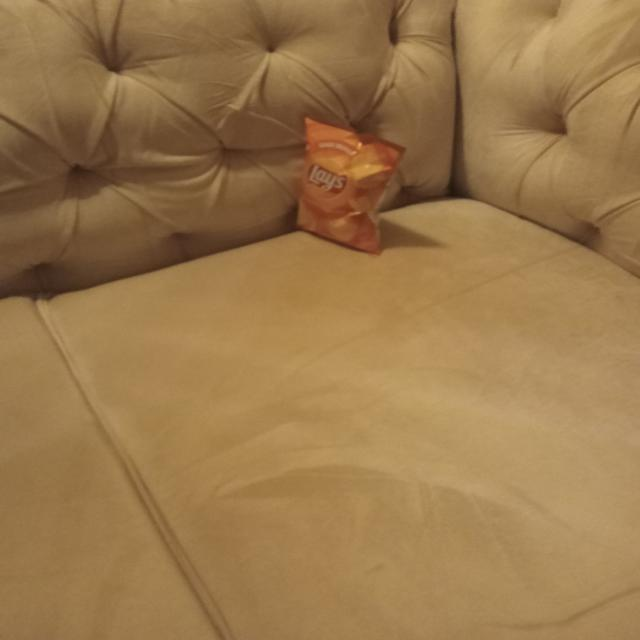Plastic: (276, 96, 421, 272)
